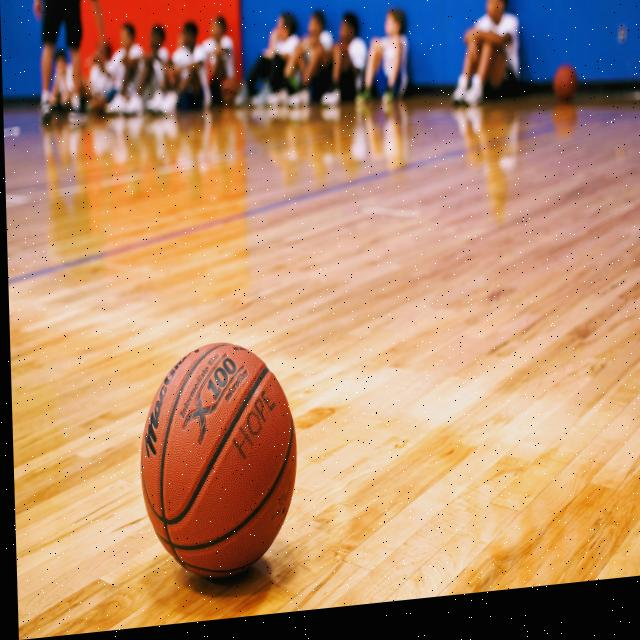Basketball: (138, 335, 301, 587)
